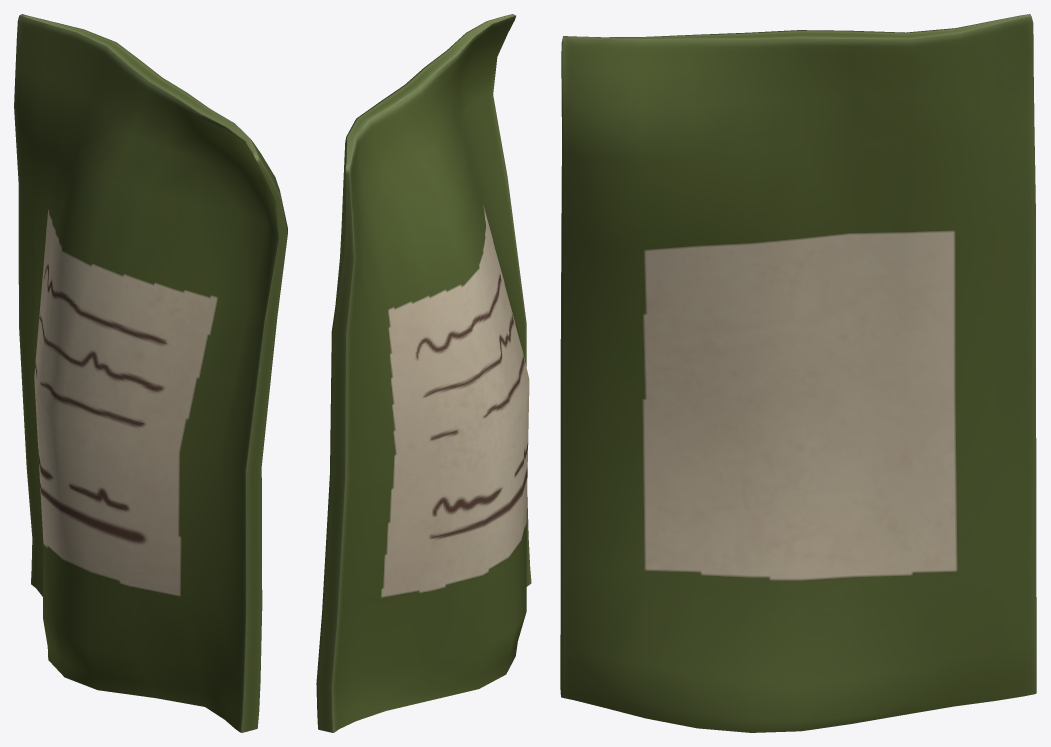
The model's file is SM_FoodPot_02.fbx.
3 renders of one model, left to right at view 1: azimuth 30°, elevation 25°; view 2: azimuth 150°, elevation 25°; view 3: azimuth 270°, elevation 25°, orthographic. The views are drawn at different scales.
Visible parts, largest first — view 1: SM_FoodPot_02_LOD0; view 2: SM_FoodPot_02_LOD0; view 3: SM_FoodPot_02_LOD0.
Part boxes in pixels (x1,y1,x2,y2): SM_FoodPot_02_LOD0: [14, 14, 287, 732]; SM_FoodPot_02_LOD0: [316, 14, 531, 732]; SM_FoodPot_02_LOD0: [560, 14, 1036, 732].
Size of the model in its own units: 6.39 by 13.88 by 21.4.
1 material, 1 textured.
